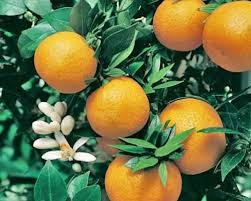orange: (157, 95, 230, 175), (102, 145, 183, 201), (35, 32, 98, 92), (200, 3, 250, 72), (88, 81, 151, 135), (152, 1, 210, 52)
